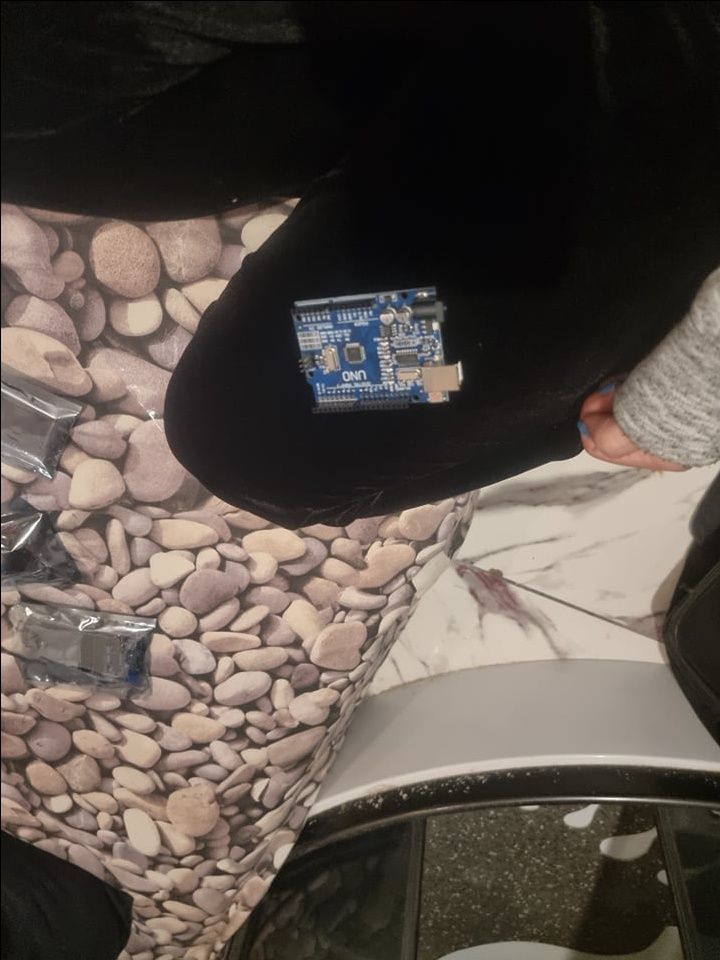UNO R3: (287, 282, 463, 416)
